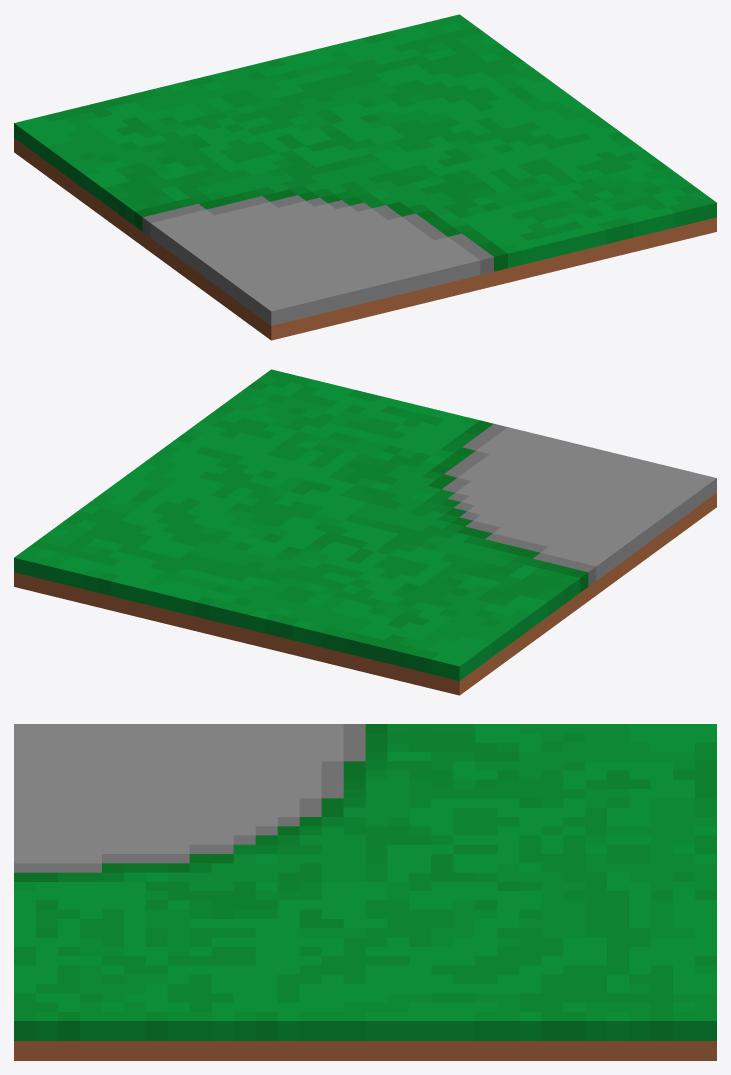
The model's file is forest-city-rounded-edge-inner-3.gltf.
3 views of the same model, one above another, from view 1: azimuth 30°, elevation 25°; view 2: azimuth 150°, elevation 25°; view 3: azimuth 270°, elevation 25° (orthographic). The views are drawn at different scales.
Parts seen in each view (by area): view 1: forest-city-rounded-edge-inner-3; view 2: forest-city-rounded-edge-inner-3; view 3: forest-city-rounded-edge-inner-3.
Boxes of the visible parts, <box> form: forest-city-rounded-edge-inner-3: <box>14,14,716,340</box>; forest-city-rounded-edge-inner-3: <box>14,369,716,695</box>; forest-city-rounded-edge-inner-3: <box>14,724,716,1060</box>.
Bounding box in the file's own units: 3.2 × 0.2 × 3.2.
Materials: 1 (1 with a texture image).
